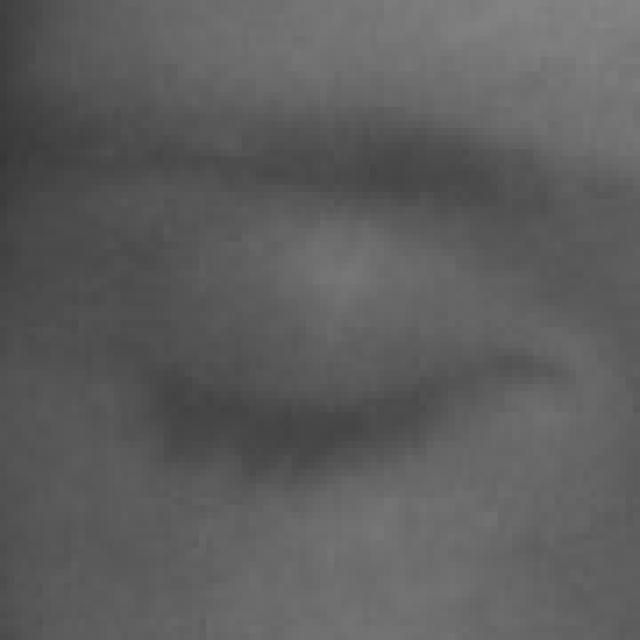Eyeclosed: (151, 225, 480, 640)
